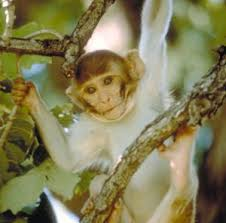monkey: (0, 34, 224, 197)
